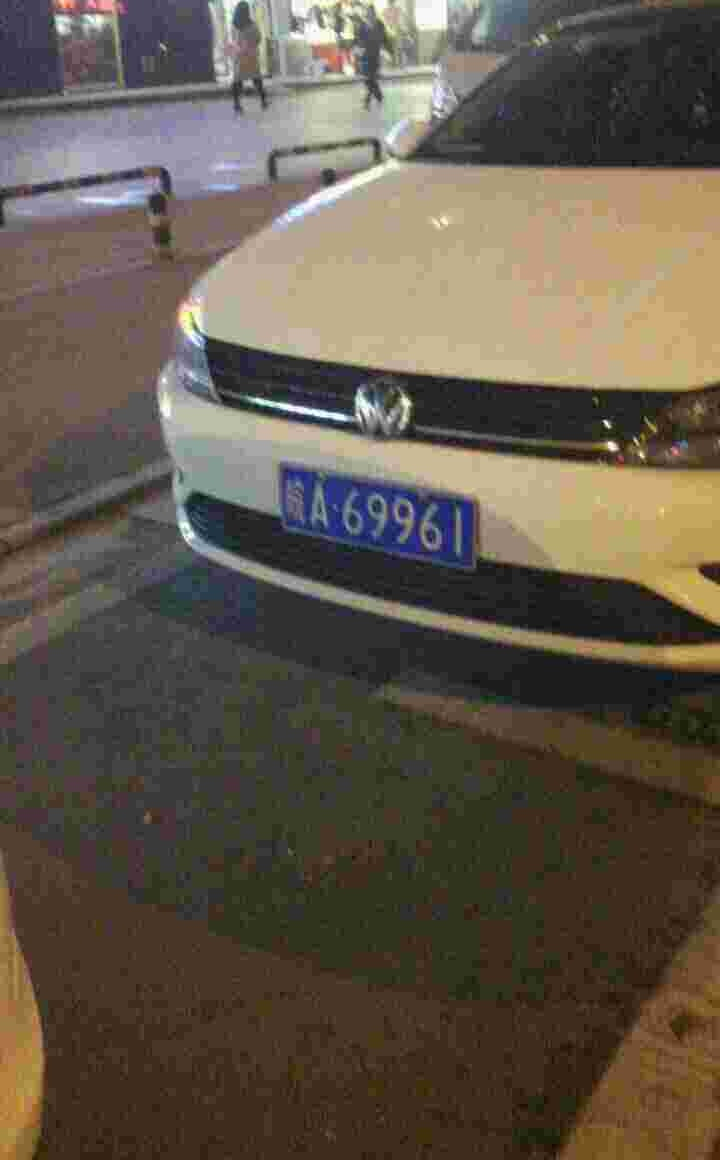license_plate: (279, 468, 485, 572)
